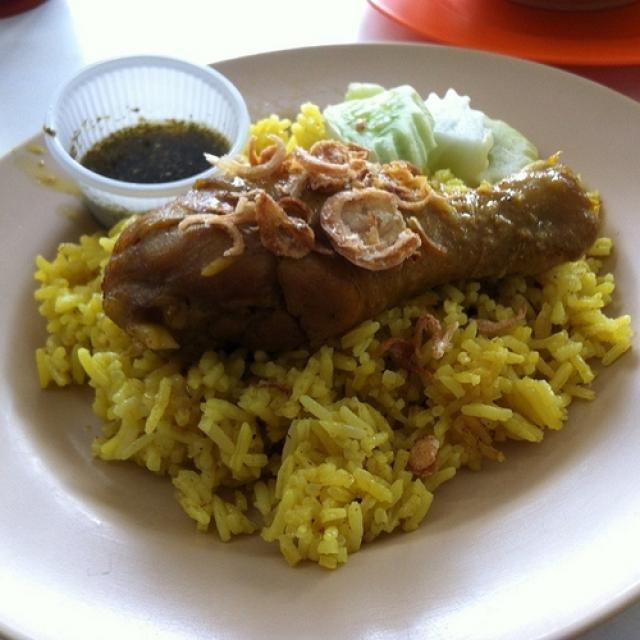米饭主食: (8, 32, 620, 621)
